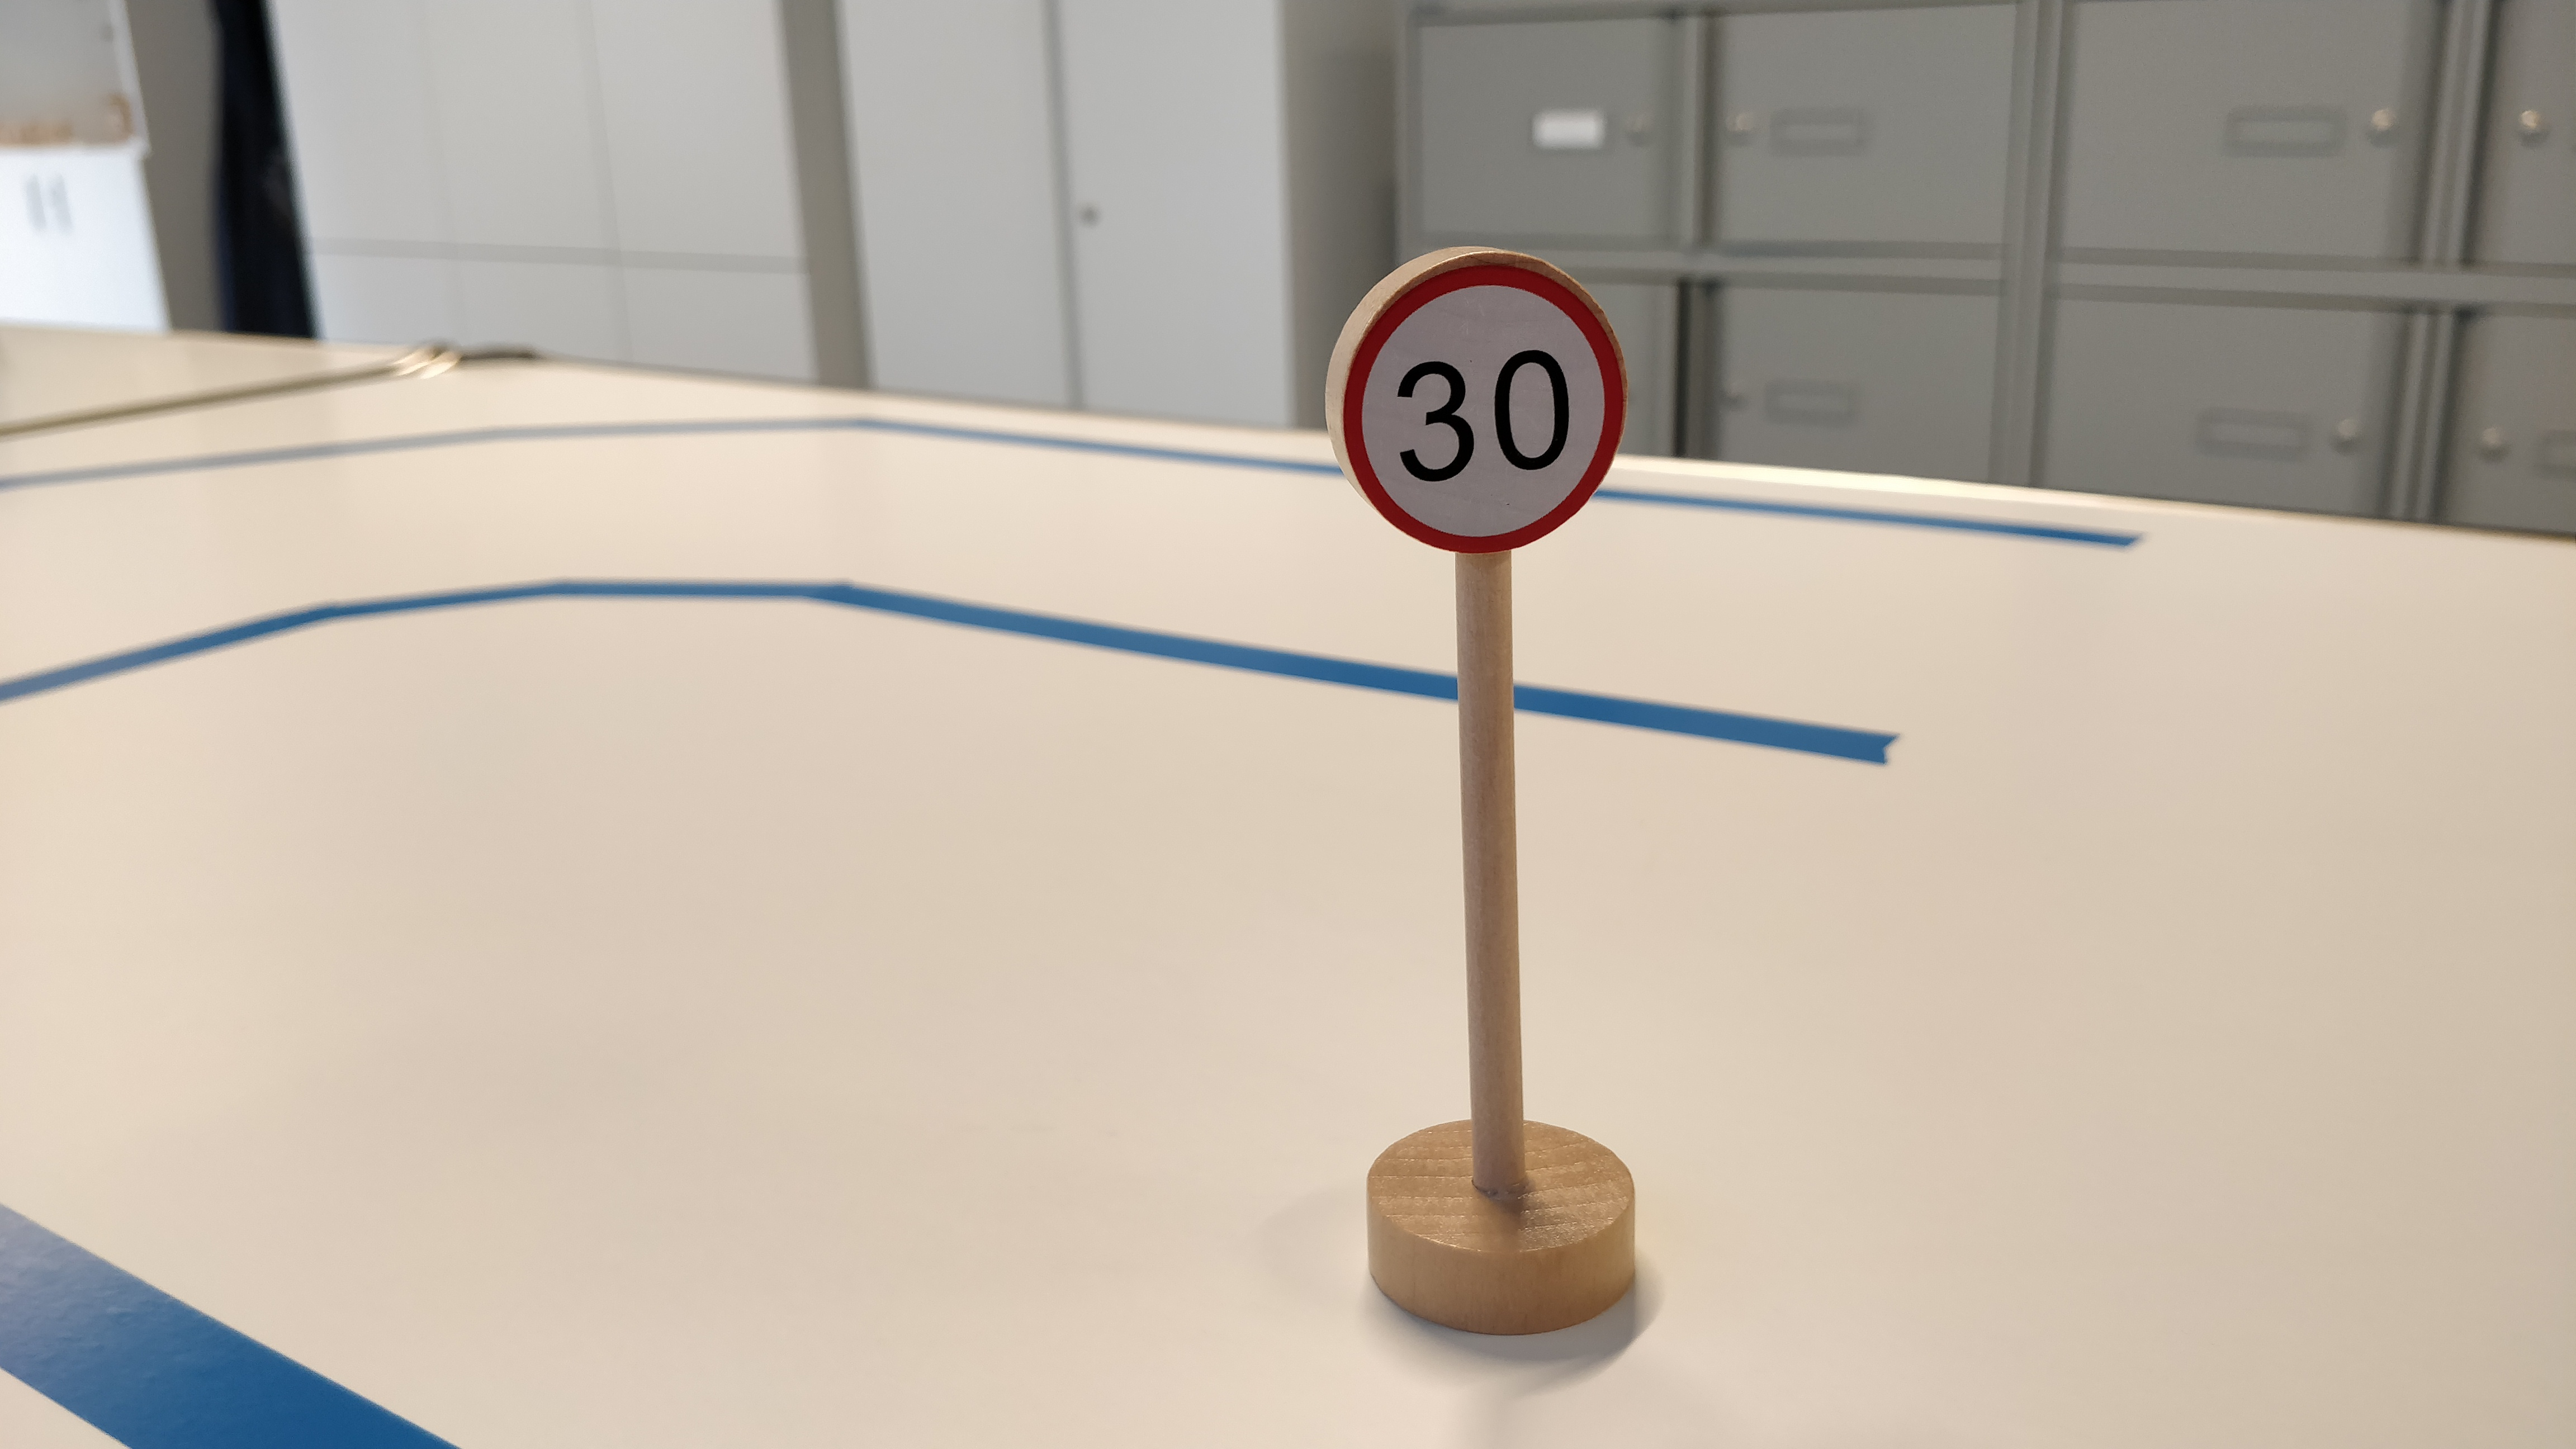Speed Limit 30: (1317, 235, 1634, 555)
